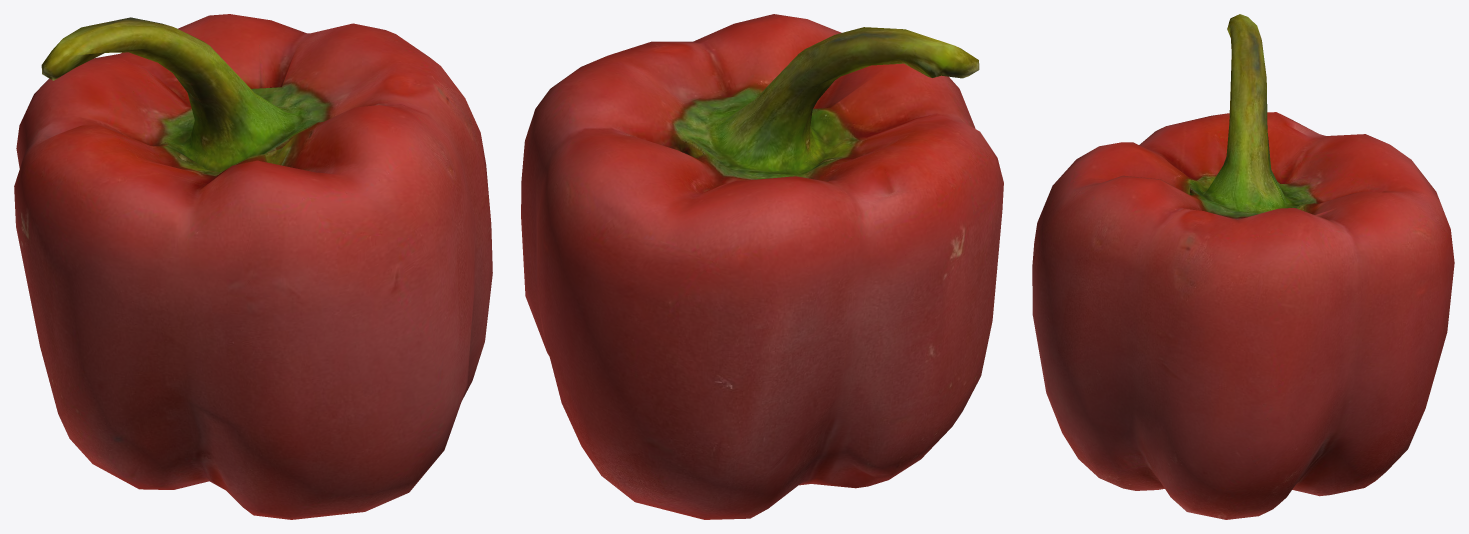
3 renders of one model, left to right at view 1: azimuth 30°, elevation 25°; view 2: azimuth 150°, elevation 25°; view 3: azimuth 270°, elevation 25°, orthographic. The views are drawn at different scales.
Parts seen in each view (by area): view 1: 79_pepper; view 2: 79_pepper; view 3: 79_pepper.
Part boxes in pixels (bbox=[...]): 79_pepper: bbox=[14, 14, 492, 519]; 79_pepper: bbox=[521, 14, 1003, 519]; 79_pepper: bbox=[1032, 14, 1454, 519].
Bounding box in the file's own units: 0.9163 × 0.9637 × 0.9441.
Materials: 1 (1 with a texture image).
